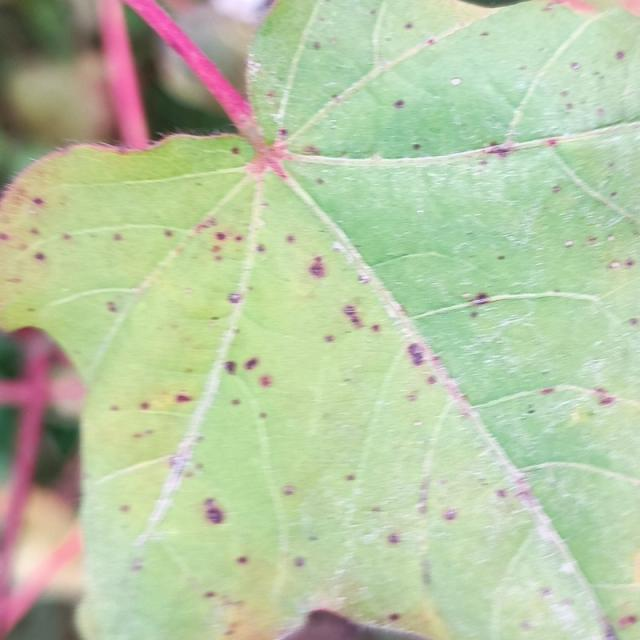Bacterial_Blight: (406, 338, 452, 380), (565, 393, 627, 424), (301, 253, 338, 289), (200, 496, 228, 525), (614, 604, 640, 629), (342, 303, 364, 329), (407, 342, 425, 366), (419, 557, 433, 583), (602, 620, 620, 640), (468, 292, 490, 306), (169, 454, 188, 469), (495, 145, 512, 159), (133, 428, 154, 439), (559, 561, 576, 574), (244, 357, 259, 371), (443, 508, 458, 522), (598, 394, 615, 406), (301, 145, 319, 156), (223, 360, 237, 374), (130, 559, 143, 572), (228, 292, 242, 304), (259, 375, 272, 387), (387, 533, 400, 545), (176, 393, 191, 403), (106, 301, 118, 313), (282, 485, 295, 496), (417, 502, 428, 515), (357, 273, 370, 284), (495, 488, 507, 499), (294, 557, 306, 568), (33, 252, 46, 262), (520, 621, 533, 631), (406, 392, 418, 402), (393, 99, 405, 109), (449, 77, 462, 86), (32, 197, 45, 206), (615, 50, 626, 60), (540, 587, 551, 597), (331, 241, 342, 251), (236, 556, 248, 565), (119, 504, 131, 513), (539, 387, 554, 394), (285, 234, 295, 244), (215, 232, 226, 241), (163, 229, 174, 238), (112, 233, 123, 242), (570, 61, 581, 70), (627, 317, 638, 326), (388, 613, 399, 622), (546, 138, 558, 146), (610, 261, 622, 269), (371, 324, 381, 333), (552, 185, 562, 194), (256, 244, 266, 253), (345, 473, 355, 482), (278, 128, 288, 137), (323, 334, 334, 342), (139, 402, 150, 410), (307, 534, 318, 542), (204, 591, 215, 599), (312, 41, 321, 50), (315, 177, 325, 185), (625, 259, 635, 267), (0, 233, 10, 241), (231, 147, 240, 155), (565, 102, 574, 110), (412, 143, 421, 151), (404, 22, 413, 30), (231, 398, 240, 406), (427, 38, 436, 46), (596, 108, 605, 116), (587, 236, 597, 243), (478, 159, 488, 166), (564, 240, 574, 247), (461, 292, 471, 299), (184, 287, 192, 295), (560, 90, 569, 97), (330, 93, 339, 100), (470, 311, 478, 318), (527, 407, 535, 414), (259, 412, 267, 419), (607, 161, 615, 168), (607, 235, 615, 242), (413, 420, 421, 427), (480, 31, 489, 37), (497, 255, 505, 261)
Cotton: (0, 0, 639, 639)
